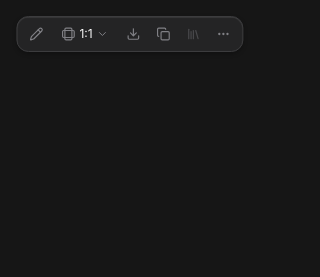
NodeSelectionToolbar — contents (ui-translation §3.2) › aspect menu lists exactly 1:1, 4:5, 5:4, 2:3, 3:2, 9:16, 16:9
This screenshot has width=320, height=277.
Press the mouse on the button "1:1" at (85, 34), box [53,22,117,46]
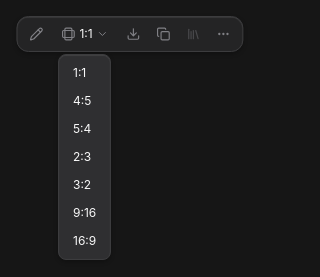
Result: the number of menu items is 7
